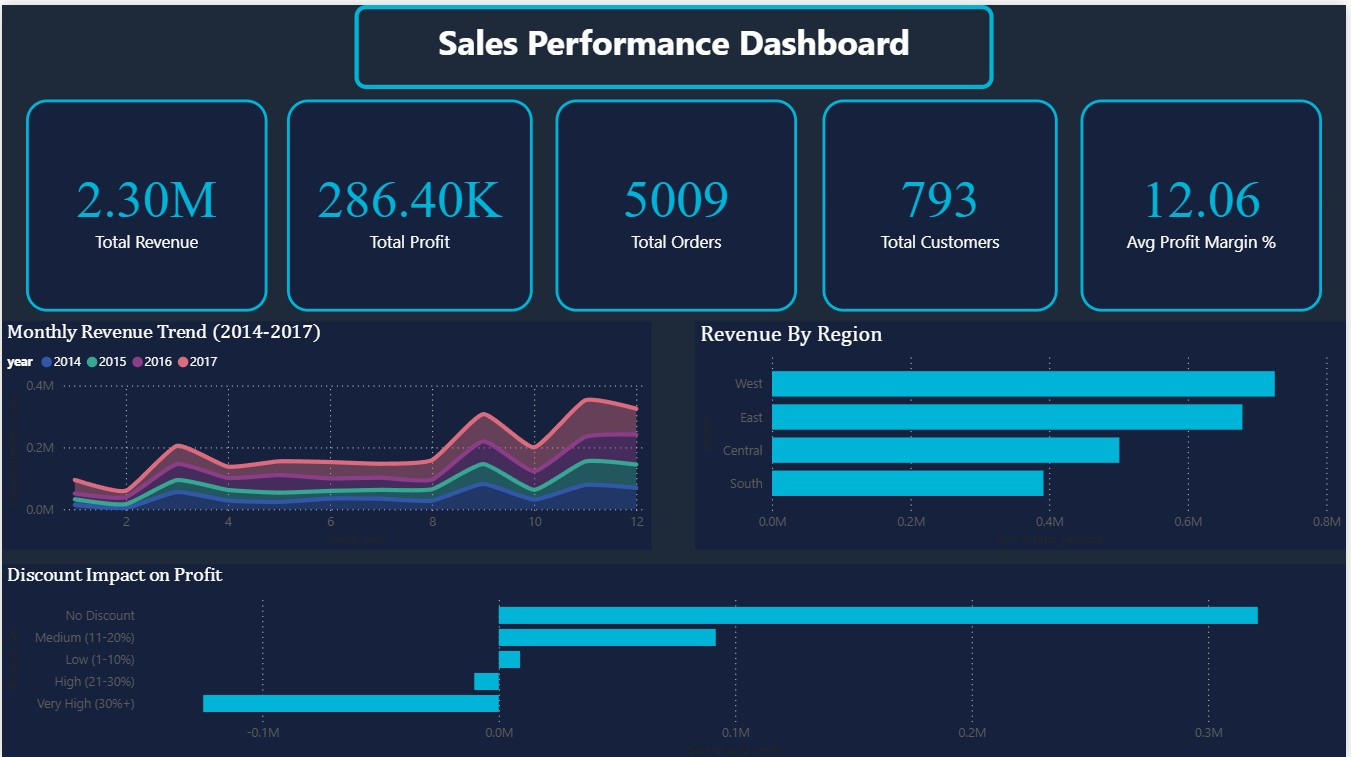

What the dashboard file says about the page in this screenshot:
{"tool":"powerbi","page":{"name":"Executive Summary","canvas":[1280,720],"ordinal":0},"visuals":[{"type":"card","fields":{"Values":["Sum(public vw_business_summary.total_revenue)"]},"box":[23.3,90,230,202],"z":0,"group":"g1"},{"type":"stackedAreaChart","title":"Monthly Revenue Trend (2014-2017)","fields":{"Category":["public vw_monthly_trend.month_num"],"Y":["Sum(public vw_monthly_trend.monthly_revenue)"],"Series":["public vw_monthly_trend.year"]},"box":[0,301.2,618.8,217.5],"z":0},{"type":"clusteredBarChart","title":"Revenue By Region","fields":{"Category":["public vw_region_performance.region"],"Y":["Sum(public vw_region_performance.total_revenue)"]},"box":[660,301.2,620,217.5],"z":1000},{"type":"card","fields":{"Values":["Sum(public vw_business_summary.total_profit)"]},"box":[271.3,90,234,202],"z":2000,"group":"g1"},{"type":"clusteredBarChart","title":"Discount Impact on Profit","fields":{"Category":["public vw_discount_impact.discount_tier"],"Y":["Sum(public vw_discount_impact.total_profit)"]},"box":[0,532.9,1280,187.1],"z":2000},{"type":"textbox","box":[335.7,0,608.6,80],"z":3000},{"type":"group","id":"g1","title":"Group 1","box":[23.3,90,1233.3,201.7],"z":4000},{"type":"card","fields":{"Values":["Sum(public vw_business_summary.total_orders)"]},"box":[527.3,90,230,202],"z":4000,"group":"g1"},{"type":"card","fields":{"Values":["Sum(public vw_business_summary.total_customers)"]},"box":[781.3,90,224,202],"z":6000,"group":"g1"},{"type":"card","fields":{"Values":["Sum(public vw_business_summary.avg_profit_margin_pct)"]},"box":[1027.3,90,230,202],"z":7000,"group":"g1"}]}

Visuals, with their boxes in screenshot pixels (x1, y1, x2, y2), scaled from the page's 1280x720 canvas onto the 1351x757 screenshot:
card - Sum(public vw_business_summary.total_revenue): {"x1": 25, "y1": 95, "x2": 267, "y2": 307}
"Monthly Revenue Trend (2014-2017)" stackedAreaChart: {"x1": 0, "y1": 317, "x2": 653, "y2": 545}
"Revenue By Region" clusteredBarChart: {"x1": 697, "y1": 317, "x2": 1350, "y2": 545}
card - Sum(public vw_business_summary.total_profit): {"x1": 286, "y1": 95, "x2": 533, "y2": 307}
"Discount Impact on Profit" clusteredBarChart: {"x1": 0, "y1": 560, "x2": 1350, "y2": 756}
textbox: {"x1": 354, "y1": 0, "x2": 997, "y2": 84}
"Group 1" group: {"x1": 25, "y1": 95, "x2": 1326, "y2": 307}
card - Sum(public vw_business_summary.total_orders): {"x1": 557, "y1": 95, "x2": 799, "y2": 307}
card - Sum(public vw_business_summary.total_customers): {"x1": 825, "y1": 95, "x2": 1061, "y2": 307}
card - Sum(public vw_business_summary.avg_profit_margin_pct): {"x1": 1084, "y1": 95, "x2": 1327, "y2": 307}
